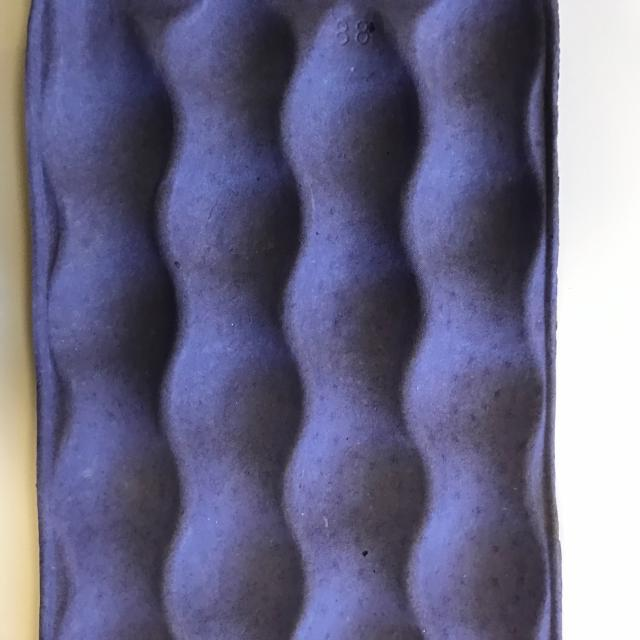paper: (28, 2, 640, 640)
